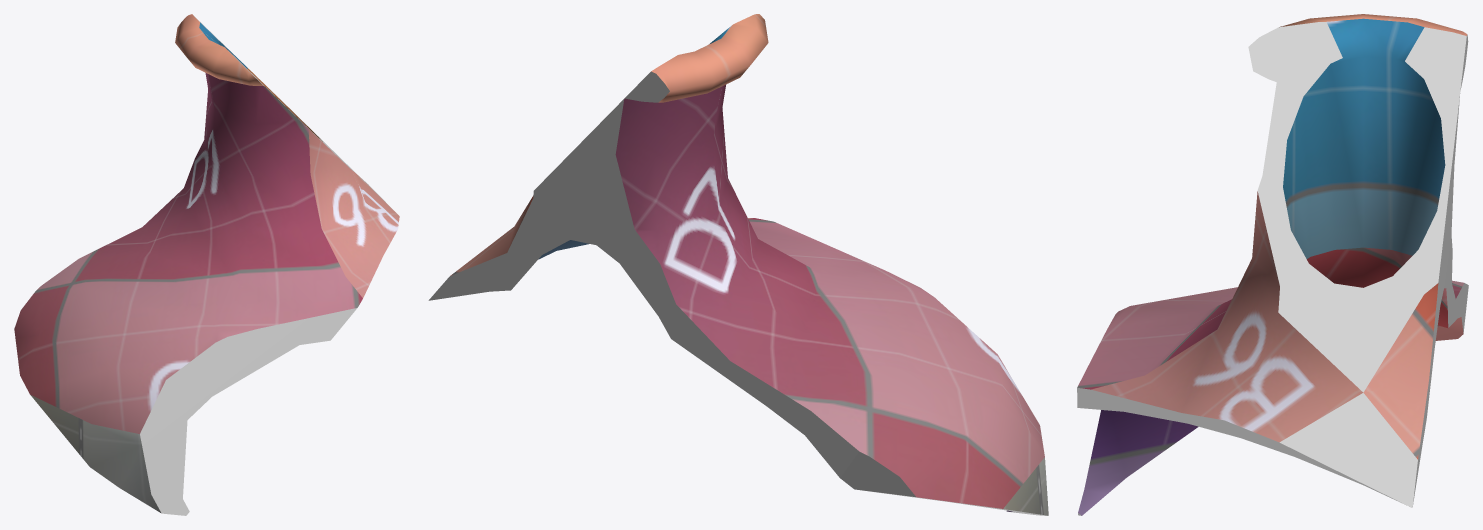
File: MediumVase_SHAT_cell_002.fbx
3 views of the same model, side by side, from view 1: azimuth 30°, elevation 25°; view 2: azimuth 150°, elevation 25°; view 3: azimuth 270°, elevation 25° (orthographic). The views are drawn at different scales.
Parts seen in each view (by area): view 1: MediumVase_SHAT_cell_002; view 2: MediumVase_SHAT_cell_002; view 3: MediumVase_SHAT_cell_002.
Part boxes in pixels (box(x1,y1,x2,y2)): MediumVase_SHAT_cell_002: box(14, 14, 399, 515); MediumVase_SHAT_cell_002: box(428, 14, 1048, 515); MediumVase_SHAT_cell_002: box(1077, 14, 1468, 515).
Bounding box in the file's own units: 0.8021 × 0.7565 × 0.4607.
2 materials, 1 textured.
